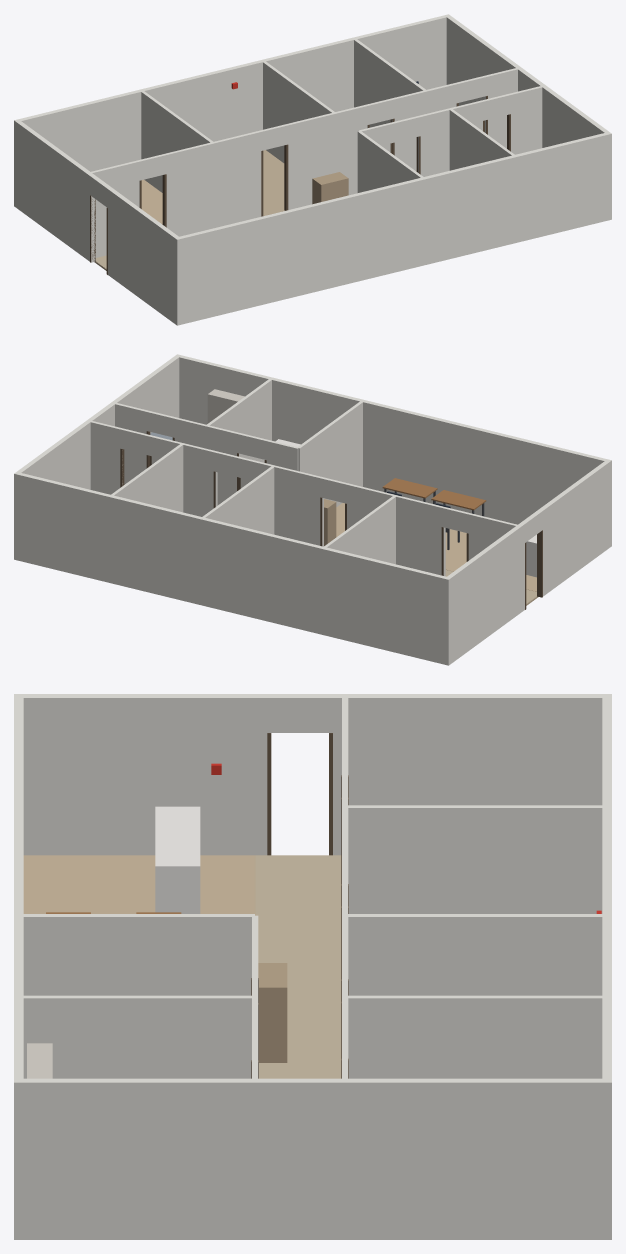
The model's file is corporate-office.glb.
The picture shows the model from 3 angles, top to bottom: view 1: azimuth 30°, elevation 25°; view 2: azimuth 150°, elevation 25°; view 3: azimuth 270°, elevation 25°; orthographic projection. The views are drawn at different scales.
Visible parts, largest first — view 1: wall_south, wall_north, wall_wall_offices (×5), wall_west (×2), wall_east, wall_wall_south_rooms (×3), wall_wall_o1_o2, wall_wall_o2_o3, wall_wall_o3_conf, wall_wall_admin_break, wall_wall_break_copy, floor_office_2 (+8 smaller); view 2: wall_north, wall_south, wall_wall_offices (×5), wall_west (×2), wall_east, wall_wall_south_rooms (×3), wall_wall_admin_break, wall_wall_o3_conf, wall_wall_o2_o3, wall_wall_o1_o2, wall_wall_break_copy, floor_admin (+10 smaller); view 3: wall_east, wall_west (×2), wall_wall_o1_o2, wall_wall_o3_conf, wall_wall_o2_o3, wall_wall_admin_break, wall_wall_break_copy, floor_corridor, floor_admin, wall_north, wall_south, reception_counter_body (+3 smaller).
Boxes of the visible parts, x1,y1,x2,y2 form: wall_south: [174, 132, 611, 325]; wall_north: [14, 14, 450, 207]; wall_wall_offices (×5): [91, 68, 517, 257]; wall_west (×2): [16, 121, 178, 323]; wall_east: [446, 16, 608, 147]; wall_wall_south_rooms (×3): [358, 86, 542, 176]; wall_wall_o1_o2: [141, 91, 214, 192]; wall_wall_o2_o3: [263, 61, 334, 162]; wall_wall_o3_conf: [354, 39, 425, 127]; wall_wall_admin_break: [357, 131, 423, 192]; wall_wall_break_copy: [449, 109, 514, 170]; floor_office_2: [263, 150, 284, 215]; wall_north: [14, 472, 451, 665]; wall_south: [175, 354, 611, 547]; wall_wall_offices (×5): [90, 421, 517, 576]; wall_west (×2): [447, 461, 609, 663]; wall_east: [17, 356, 179, 489]; wall_wall_south_rooms (×3): [115, 403, 298, 505]; wall_wall_admin_break: [297, 401, 362, 506]; wall_wall_o3_conf: [111, 444, 183, 512]; wall_wall_o2_o3: [202, 466, 274, 534]; wall_wall_o1_o2: [324, 496, 395, 564]; wall_wall_break_copy: [207, 379, 271, 462]; floor_admin: [336, 503, 536, 591]; wall_east: [23, 1078, 602, 1239]; wall_west (×2): [23, 694, 602, 855]; wall_wall_o1_o2: [345, 805, 602, 913]; wall_wall_o3_conf: [346, 995, 602, 1078]; wall_wall_o2_o3: [346, 914, 602, 995]; wall_wall_admin_break: [23, 914, 254, 995]; wall_wall_break_copy: [23, 995, 251, 1078]; floor_corridor: [255, 855, 341, 1078]; floor_admin: [24, 855, 254, 913]; wall_north: [602, 694, 611, 1239]; wall_south: [14, 694, 23, 1239]; reception_counter_body: [155, 806, 200, 913].
Size of the model in its own units: 14.31 by 2.75 by 9.3.
